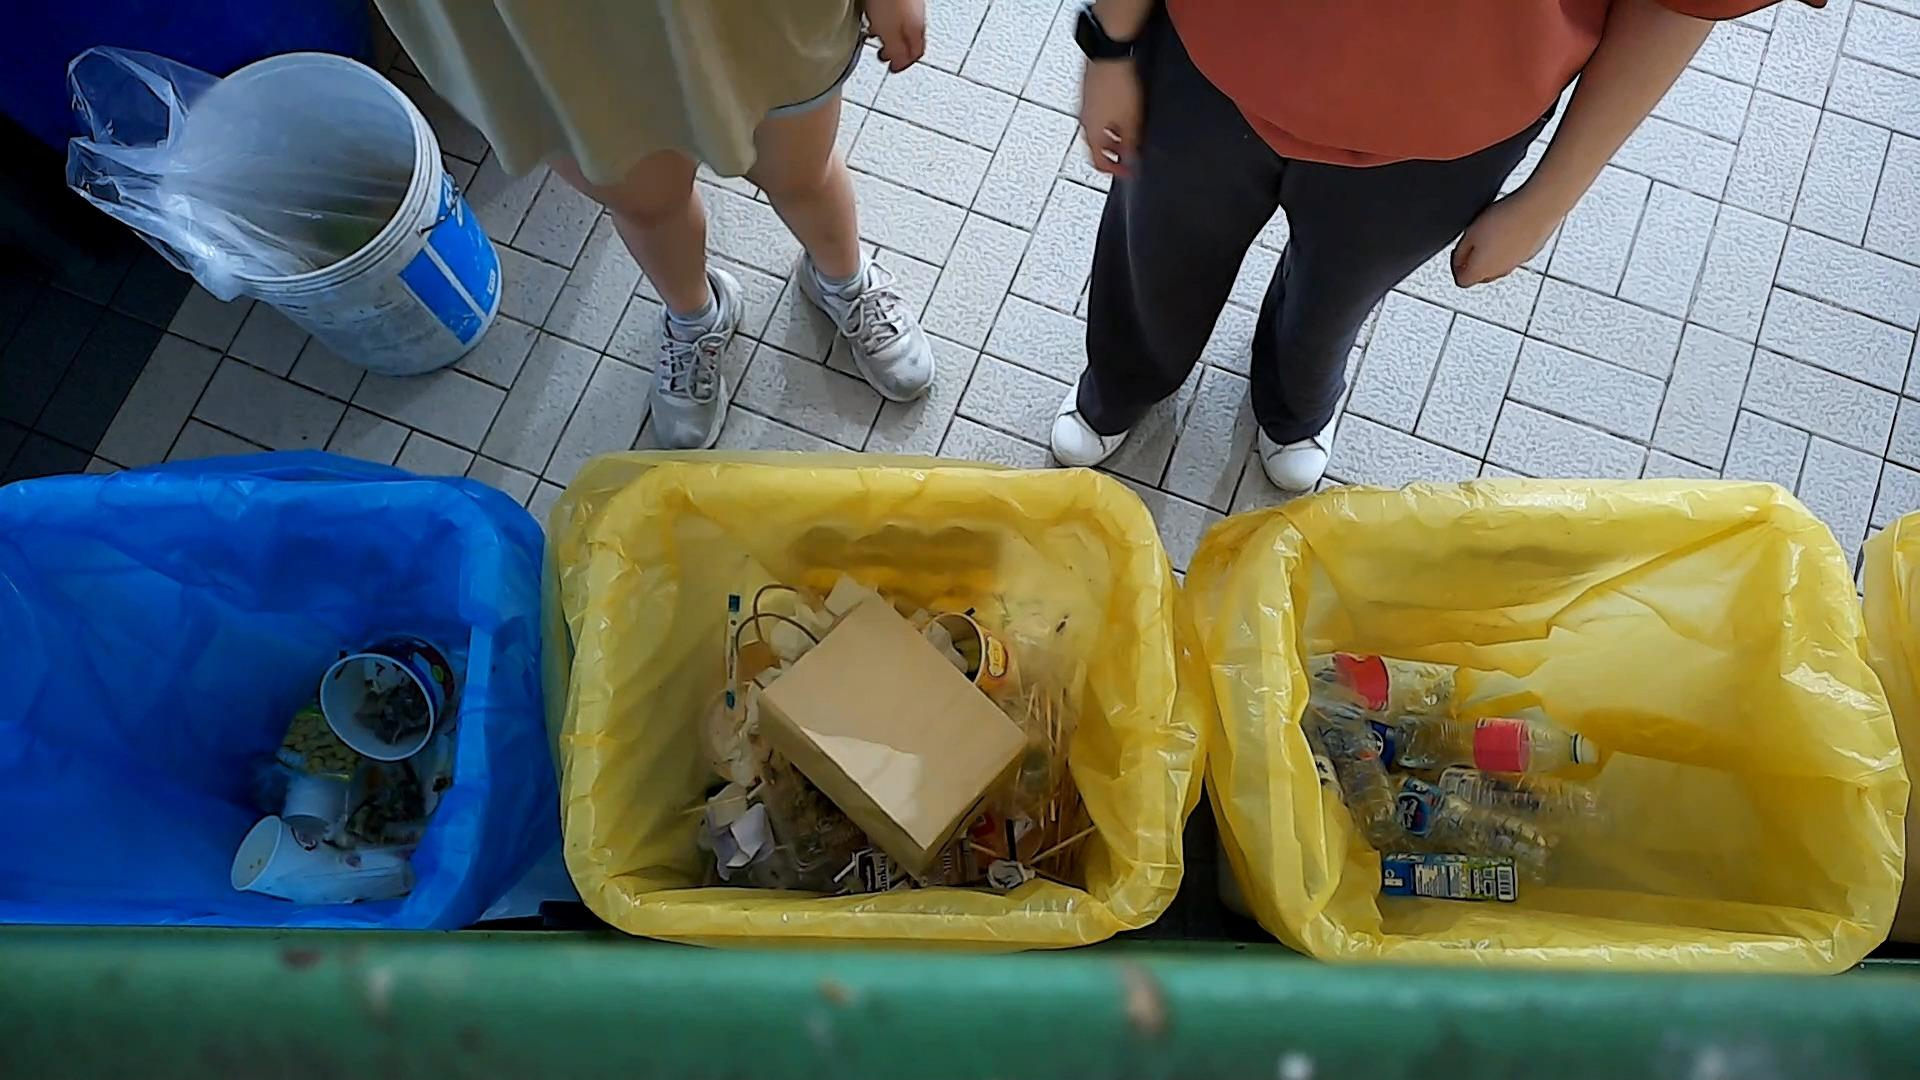dirty food container: (315, 632, 462, 766), (922, 609, 1019, 700)
filled plastic bag: (969, 514, 1121, 757)
milk carton: (1375, 848, 1523, 907)
paper bag: (732, 576, 1034, 878)
plastic bottle: (1382, 766, 1569, 880), (1307, 665, 1408, 848), (1435, 765, 1615, 849), (1387, 712, 1604, 778)
sticks: (1018, 814, 1095, 861)
tissue paper: (761, 570, 882, 679), (716, 659, 791, 790), (711, 802, 778, 885), (694, 781, 753, 856), (980, 853, 1031, 891)
zero waste cup: (229, 811, 377, 907)
